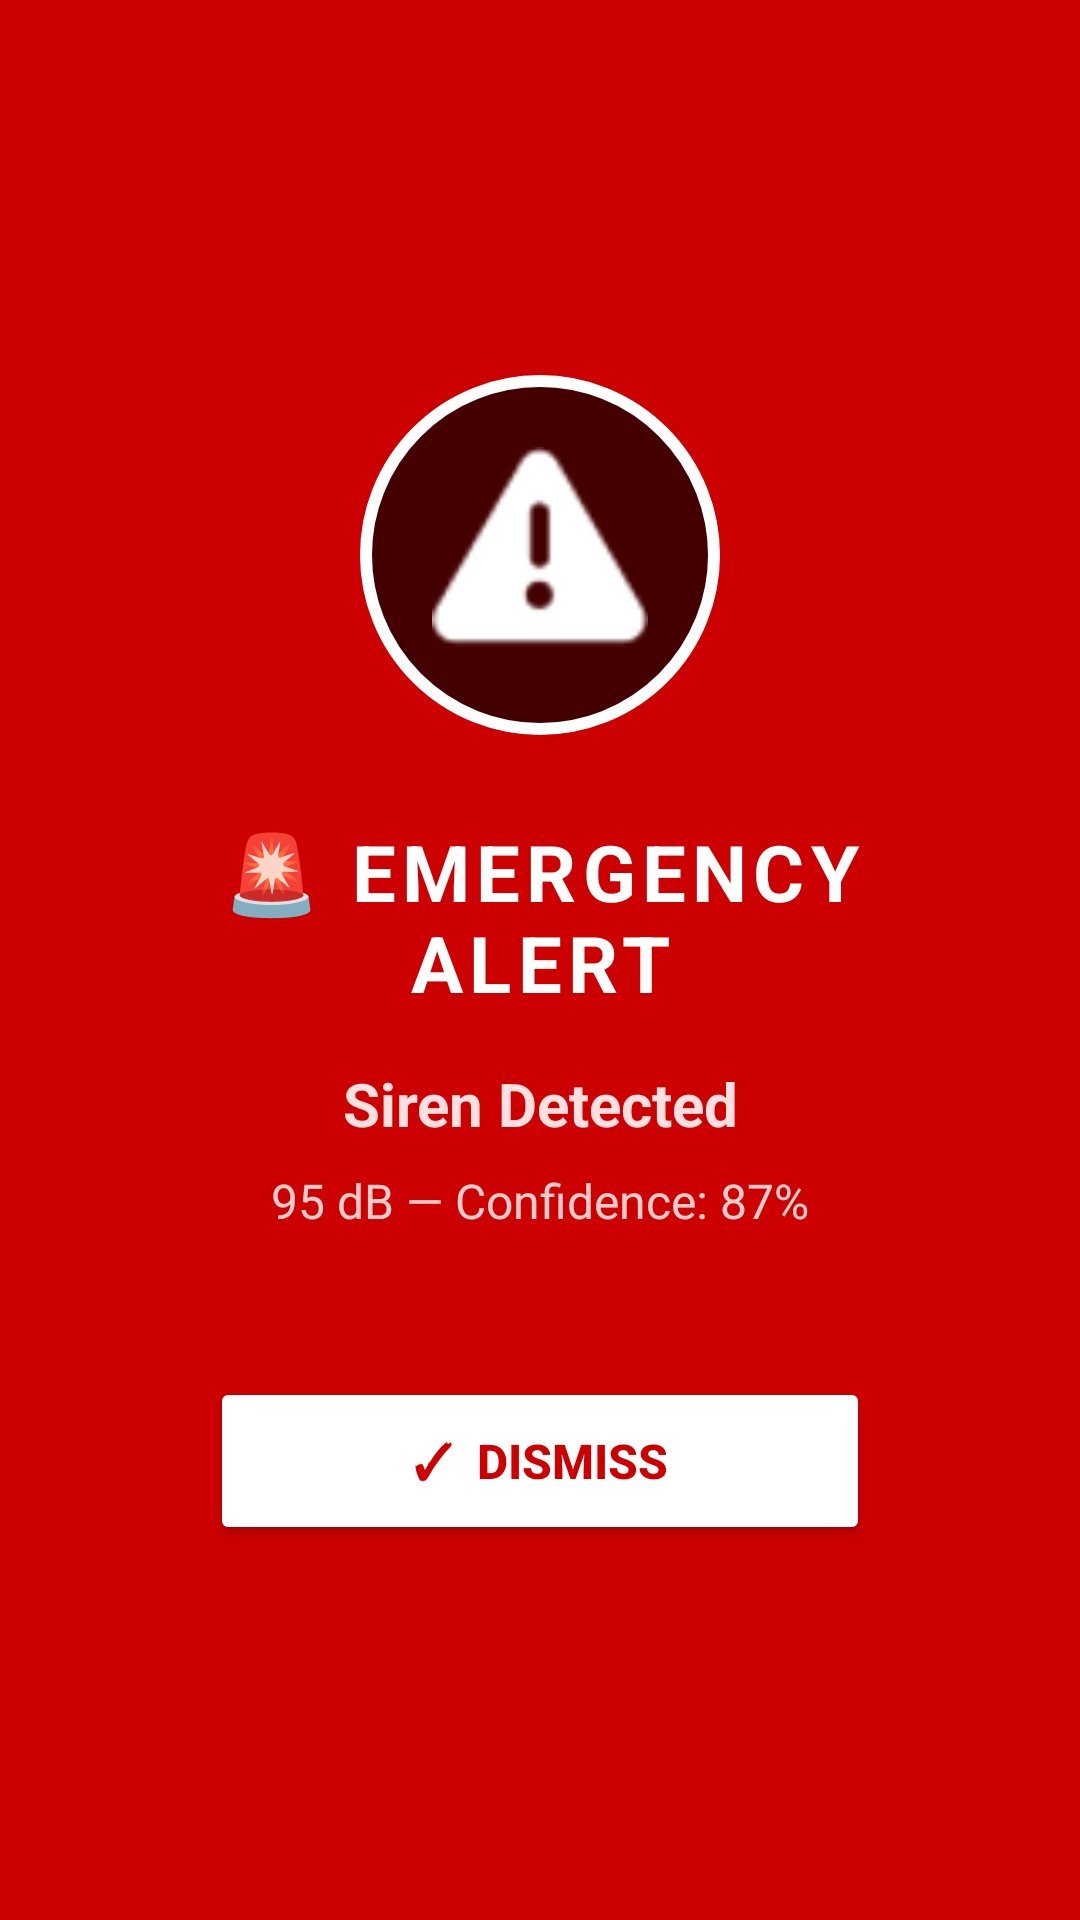

Icon click points for this 1080 x 1920 phone screenshot, format (x=x, y=y):
alert: (x=540, y=545)
